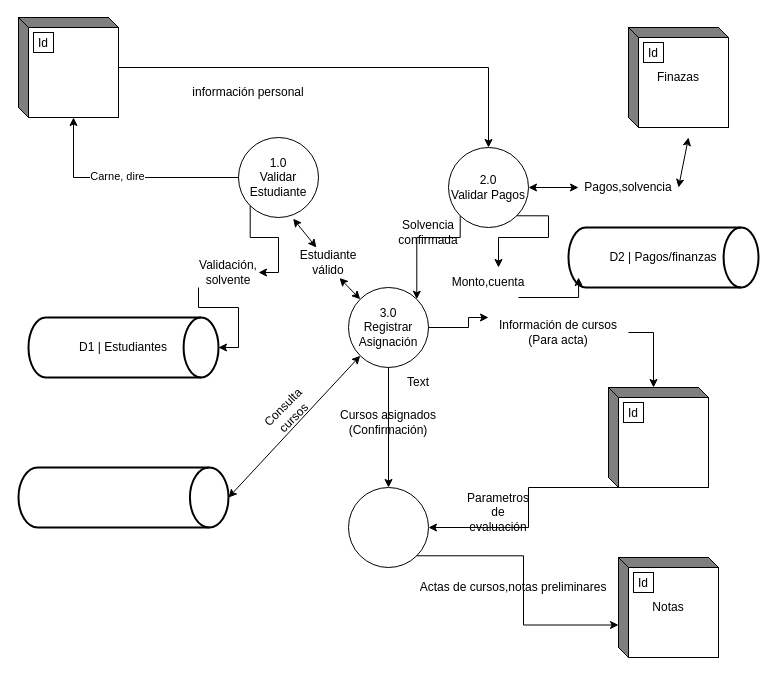
The diagram is 776 pixels wide and 675 high, and some of its shapes have lost their labels. Each missing label, with the centre of its shape:
"4.0 Generar Reportes y Actas" belongs at (x=388, y=527).
"Alumno" belongs at (x=68, y=67).
"D3 | Cursos ofertados" belongs at (x=123, y=497).
"Maestros" belongs at (x=658, y=437).
